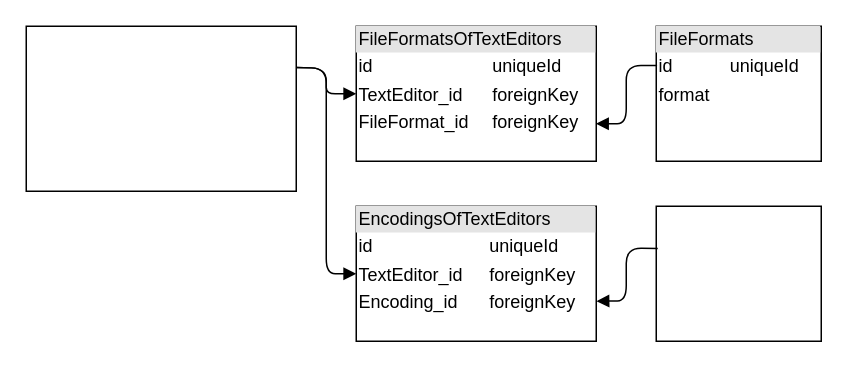
Image size: 848x368. Some labels were removed from this diagram. Here are the shapes that lost their labels. From the top down, the centre of each, then its label:
the point at 160,108: TextEditors id uniqueId name hasIntellisense hasPlugins canCompile
the point at 738,273: Encodings id uniqueId encoding
